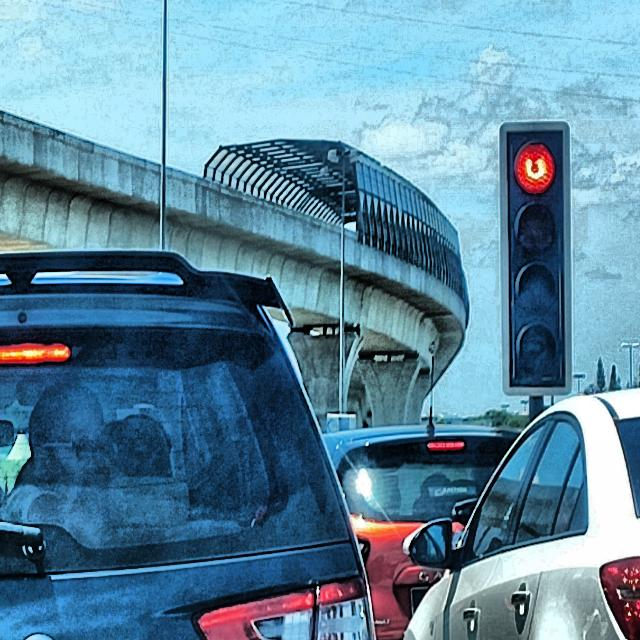red: (502, 122, 572, 392)
